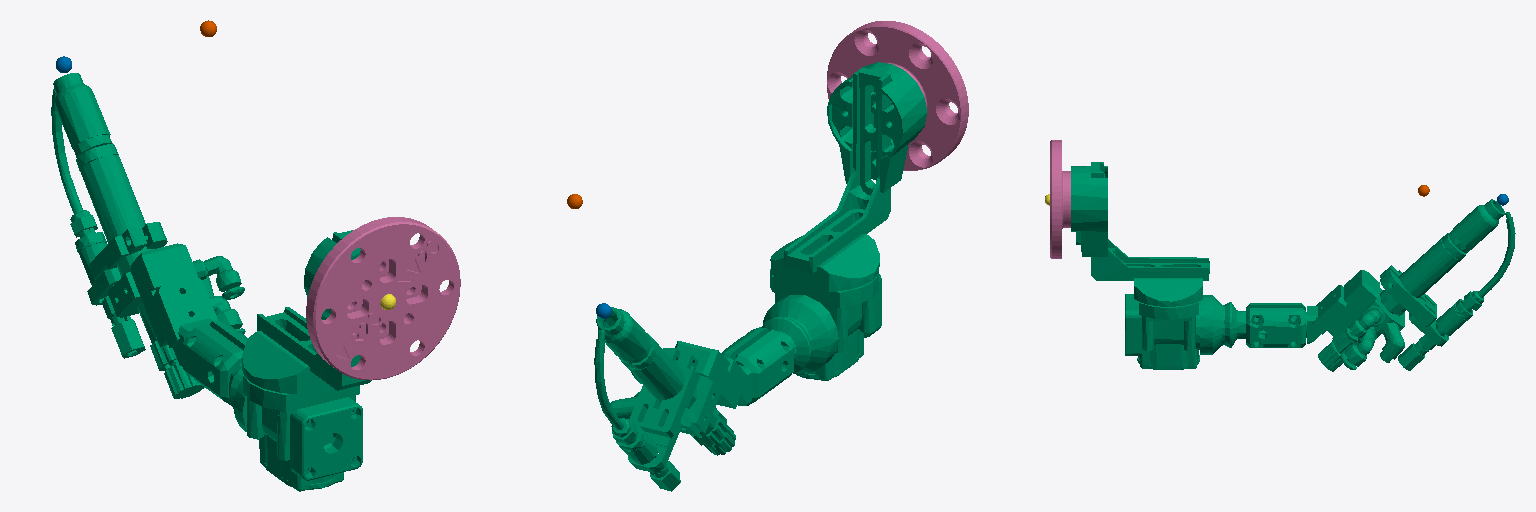
robot.urdf — ur10:
<?xml version="1.0" ?>
<!-- =================================================================================== -->
<!-- |    This document was autogenerated by xacro from [local-path]/weldbot_ws/src/ArcWeldBot/ur_description_pkg/ur_description/urdf/ur10_joint_limited_robot.urdf.xacro | -->
<!-- |    EDITING THIS FILE BY HAND IS NOT RECOMMENDED                                 | -->
<!-- =================================================================================== -->
<robot name="ur10">
    <gazebo>
        <plugin filename="libgazebo_ros_control.so" name="ros_control">
            <!--robotNamespace>/</robotNamespace-->
            <!--robotSimType>gazebo_ros_control/DefaultRobotHWSim</robotSimType-->
        </plugin>
        <!--
    <plugin name="gazebo_ros_power_monitor_controller" filename="libgazebo_ros_power_monitor.so">
      <alwaysOn>true</alwaysOn>
      <updateRate>1.0</updateRate>
      <timeout>5</timeout>
      <powerStateTopic>power_state</powerStateTopic>
      <powerStateRate>10.0</powerStateRate>
      <fullChargeCapacity>87.78</fullChargeCapacity>     
      <dischargeRate>-474</dischargeRate>
      <chargeRate>525</chargeRate>
      <dischargeVoltage>15.52</dischargeVoltage>
      <chargeVoltage>16.41</chargeVoltage>
    </plugin>
-->
        <plugin name="gazebo_ros_control">
            <robotNamespace>/</robotNamespace>
        </plugin>
    </gazebo>
    <!--
  Author: [author]
  Contributers: [author], [author], [author]
-->
    <!-- measured from model -->
    <link name="base_link">
        <visual>
            <geometry>
                <mesh filename="package://ur_description_pkg/ur_description/meshes/visual/base.dae" />
            </geometry>
            <material name="LightGrey">
                <color rgba="0.7 0.7 0.7 1.0" />
            </material>
        </visual>
        <collision>
            <geometry>
                <mesh filename="package://ur_description_pkg/ur_description/meshes/collision/base.stl" />
            </geometry>
        </collision>
        <inertial>
            <mass value="4.0" />
            <origin rpy="0 0 0" xyz="0.0 0.0 0.0" />
            <inertia ixx="0.0061063308908" ixy="0.0" ixz="0.0" iyy="0.0061063308908" iyz="0.0" izz="0.01125" />
        </inertial>
    </link>
    <joint name="shoulder_pan_joint" type="revolute">
        <parent link="base_link" />
        <child link="shoulder_link" />
        <origin rpy="0.0 0.0 0.0" xyz="0.0 0.0 0.1273" />
        <axis xyz="0 0 1" />
        <limit effort="330.0" lower="-3.141592653589793" upper="3.141592653589793" velocity="2.16" />
        <dynamics damping="0.0" friction="0.0" />
    </joint>
    <link name="shoulder_link">
        <visual>
            <geometry>
                <mesh filename="package://ur_description_pkg/ur_description/meshes/visual/shoulder.dae" />
            </geometry>
            <material name="LightGrey">
                <color rgba="0.7 0.7 0.7 1.0" />
            </material>
        </visual>
        <collision>
            <geometry>
                <mesh filename="package://ur_description_pkg/ur_description/meshes/collision/shoulder.stl" />
            </geometry>
        </collision>
        <inertial>
            <mass value="7.778" />
            <origin rpy="0 0 0" xyz="0.0 0.0 0.0" />
            <inertia ixx="0.03147431257693659" ixy="0.0" ixz="0.0" iyy="0.03147431257693659" iyz="0.0" izz="0.021875624999999996" />
        </inertial>
    </link>
    <joint name="shoulder_lift_joint" type="revolute">
        <parent link="shoulder_link" />
        <child link="upper_arm_link" />
        <origin rpy="0.0 1.5707963267948966 0.0" xyz="0.0 0.220941 0.0" />
        <axis xyz="0 1 0" />
        <limit effort="330.0" lower="-3.141592653589793" upper="3.141592653589793" velocity="2.16" />
        <dynamics damping="0.0" friction="0.0" />
    </joint>
    <link name="upper_arm_link">
        <visual>
            <geometry>
                <mesh filename="package://ur_description_pkg/ur_description/meshes/visual/upperarm.dae" />
            </geometry>
            <material name="LightGrey">
                <color rgba="0.7 0.7 0.7 1.0" />
            </material>
        </visual>
        <collision>
            <geometry>
                <mesh filename="package://ur_description_pkg/ur_description/meshes/collision/upperarm.stl" />
            </geometry>
        </collision>
        <inertial>
            <mass value="12.93" />
            <origin rpy="0 0 0" xyz="0.0 -0.045 0.306" />
            <inertia ixx="0.42175380379841093" ixy="0.0" ixz="0.0" iyy="0.42175380379841093" iyz="0.0" izz="0.03636562499999999" />
        </inertial>
    </link>
    <joint name="elbow_joint" type="revolute">
        <parent link="upper_arm_link" />
        <child link="forearm_link" />
        <origin rpy="0.0 0.0 0.0" xyz="0.0 -0.1719 0.612" />
        <axis xyz="0 1 0" />
        <limit effort="150.0" lower="-3.141592653589793" upper="3.141592653589793" velocity="3.15" />
        <dynamics damping="0.0" friction="0.0" />
    </joint>
    <link name="forearm_link">
        <visual>
            <geometry>
                <mesh filename="package://ur_description_pkg/ur_description/meshes/visual/forearm.dae" />
            </geometry>
            <material name="LightGrey">
                <color rgba="0.7 0.7 0.7 1.0" />
            </material>
        </visual>
        <collision>
            <geometry>
                <mesh filename="package://ur_description_pkg/ur_description/meshes/collision/forearm.stl" />
            </geometry>
        </collision>
        <inertial>
            <mass value="3.87" />
            <origin rpy="0 0 0" xyz="0.0 0.0 0.28615" />
            <inertia ixx="0.11106969409710458" ixy="0.0" ixz="0.0" iyy="0.11106969409710458" iyz="0.0" izz="0.010884375" />
        </inertial>
    </link>
    <joint name="wrist_1_joint" type="revolute">
        <parent link="forearm_link" />
        <child link="wrist_1_link" />
        <origin rpy="0.0 1.5707963267948966 0.0" xyz="0.0 0.0 0.5723" />
        <axis xyz="0 1 0" />
        <limit effort="54.0" lower="-3.141592653589793" upper="3.141592653589793" velocity="3.2" />
        <dynamics damping="0.0" friction="0.0" />
    </joint>
    <link name="wrist_1_link">
        <visual>
            <geometry>
                <mesh filename="package://ur_description_pkg/ur_description/meshes/visual/wrist1.dae" />
            </geometry>
            <material name="LightGrey">
                <color rgba="0.7 0.7 0.7 1.0" />
            </material>
        </visual>
        <collision>
            <geometry>
                <mesh filename="package://ur_description_pkg/ur_description/meshes/collision/wrist1.stl" />
            </geometry>
        </collision>
        <inertial>
            <mass value="1.96" />
            <origin rpy="0 0 0" xyz="0.0 0.1149 0.0" />
            <inertia ixx="0.005108247956699999" ixy="0.0" ixz="0.0" iyy="0.005108247956699999" iyz="0.0" izz="0.005512499999999999" />
        </inertial>
    </link>
    <joint name="wrist_2_joint" type="revolute">
        <parent link="wrist_1_link" />
        <child link="wrist_2_link" />
        <origin rpy="0.0 0.0 0.0" xyz="0.0 0.1149 0.0" />
        <axis xyz="0 0 1" />
        <limit effort="54.0" lower="-3.141592653589793" upper="3.141592653589793" velocity="3.2" />
        <dynamics damping="0.0" friction="0.0" />
    </joint>
    <link name="wrist_2_link">
        <visual>
            <geometry>
                <mesh filename="package://ur_description_pkg/ur_description/meshes/visual/wrist2.dae" />
            </geometry>
            <material name="LightGrey">
                <color rgba="0.7 0.7 0.7 1.0" />
            </material>
        </visual>
        <collision>
            <geometry>
                <mesh filename="package://ur_description_pkg/ur_description/meshes/collision/wrist2.stl" />
            </geometry>
        </collision>
        <inertial>
            <mass value="1.96" />
            <origin rpy="0 0 0" xyz="0.0 0.0 0.1157" />
            <inertia ixx="0.005108247956699999" ixy="0.0" ixz="0.0" iyy="0.005108247956699999" iyz="0.0" izz="0.005512499999999999" />
        </inertial>
    </link>
    <joint name="wrist_3_joint" type="revolute">
        <parent link="wrist_2_link" />
        <child link="wrist_3_link" />
        <origin rpy="0.0 0.0 0.0" xyz="0.0 0.0 0.1157" />
        <axis xyz="0 1 0" />
        <limit effort="54.0" lower="-3.141592653589793" upper="3.141592653589793" velocity="3.2" />
        <dynamics damping="0.0" friction="0.0" />
    </joint>
    <link name="wrist_3_link">
        <visual>
            <geometry>
                <mesh filename="package://ur_description_pkg/ur_description/meshes/visual/wrist3.dae" />
            </geometry>
            <material name="LightGrey">
                <color rgba="0.7 0.7 0.7 1.0" />
            </material>
        </visual>
        <collision>
            <geometry>
                <mesh filename="package://ur_description_pkg/ur_description/meshes/collision/wrist3.stl" />
            </geometry>
        </collision>
        <inertial>
            <mass value="0.202" />
            <origin rpy="1.5707963267948966 0 0" xyz="0.0 0.07695 0.0" />
            <inertia ixx="0.00011792166116465" ixy="0.0" ixz="0.0" iyy="0.00011792166116465" iyz="0.0" izz="0.00020452500000000002" />
        </inertial>
    </link>
    <joint name="ee_fixed_joint" type="fixed">
        <parent link="wrist_3_link" />
        <child link="ee_link" />
        <origin rpy="0.0 0.0 1.5707963267948966" xyz="0.0 0.0922 0.0" />
    </joint>
    <link name="ee_link">
        <collision>
            <geometry>
                <box size="0.01 0.01 0.01" />
            </geometry>
            <origin rpy="0 0 0" xyz="-0.01 0 0" />
        </collision>
        <inertial>
            <mass value="0.1" />
            <origin xyz="0 0 0" rpy="0 0 0" />
            <inertia ixx="0.03" iyy="0.03" izz="0.03" ixy="0.0" ixz="0.0" iyz="0.0" />
        </inertial>
    </link>
    <transmission name="shoulder_pan_trans">
        <type>transmission_interface/SimpleTransmission</type>
        <joint name="shoulder_pan_joint">
            <hardwareInterface>hardware_interface/PositionJointInterface</hardwareInterface>
        </joint>
        <actuator name="shoulder_pan_motor">
            <mechanicalReduction>1</mechanicalReduction>
            <hardwareInterface>hardware_interface/EffortJointInterface</hardwareInterface>
        </actuator>
    </transmission>
    <transmission name="shoulder_lift_trans">
        <type>transmission_interface/SimpleTransmission</type>
        <joint name="shoulder_lift_joint">
            <hardwareInterface>hardware_interface/PositionJointInterface</hardwareInterface>
        </joint>
        <actuator name="shoulder_lift_motor">
            <mechanicalReduction>1</mechanicalReduction>
            <hardwareInterface>hardware_interface/EffortJointInterface</hardwareInterface>
        </actuator>
    </transmission>
    <transmission name="elbow_trans">
        <type>transmission_interface/SimpleTransmission</type>
        <joint name="elbow_joint">
            <hardwareInterface>hardware_interface/PositionJointInterface</hardwareInterface>
        </joint>
        <actuator name="elbow_motor">
            <mechanicalReduction>1</mechanicalReduction>
            <hardwareInterface>hardware_interface/EffortJointInterface</hardwareInterface>
        </actuator>
    </transmission>
    <transmission name="wrist_1_trans">
        <type>transmission_interface/SimpleTransmission</type>
        <joint name="wrist_1_joint">
            <hardwareInterface>hardware_interface/PositionJointInterface</hardwareInterface>
        </joint>
        <actuator name="wrist_1_motor">
            <mechanicalReduction>1</mechanicalReduction>
            <hardwareInterface>hardware_interface/EffortJointInterface</hardwareInterface>
        </actuator>
    </transmission>
    <transmission name="wrist_2_trans">
        <type>transmission_interface/SimpleTransmission</type>
        <joint name="wrist_2_joint">
            <hardwareInterface>hardware_interface/PositionJointInterface</hardwareInterface>
        </joint>
        <actuator name="wrist_2_motor">
            <mechanicalReduction>1</mechanicalReduction>
            <hardwareInterface>hardware_interface/EffortJointInterface</hardwareInterface>
        </actuator>
    </transmission>
    <transmission name="wrist_3_trans">
        <type>transmission_interface/SimpleTransmission</type>
        <joint name="wrist_3_joint">
            <hardwareInterface>hardware_interface/PositionJointInterface</hardwareInterface>
        </joint>
        <actuator name="wrist_3_motor">
            <mechanicalReduction>1</mechanicalReduction>
            <hardwareInterface>hardware_interface/EffortJointInterface</hardwareInterface>
        </actuator>
    </transmission>
    <gazebo reference="shoulder_link">
        <selfCollide>true</selfCollide>
    </gazebo>
    <gazebo reference="upper_arm_link">
        <selfCollide>true</selfCollide>
    </gazebo>
    <gazebo reference="forearm_link">
        <selfCollide>true</selfCollide>
    </gazebo>
    <gazebo reference="wrist_1_link">
        <selfCollide>true</selfCollide>
    </gazebo>
    <gazebo reference="wrist_3_link">
        <selfCollide>true</selfCollide>
    </gazebo>
    <gazebo reference="wrist_2_link">
        <selfCollide>true</selfCollide>
    </gazebo>
    <gazebo reference="ee_link">
        <selfCollide>true</selfCollide>
    </gazebo>
    <!-- ROS base_link to UR 'Base' Coordinates transform -->
    <link name="base" />
    <joint name="base_link-base_fixed_joint" type="fixed">
        <!-- NOTE: this rotation is only needed as long as base_link itself is
                 not corrected wrt the real robot (ie: rotated over 180
                 degrees)
      -->
        <origin rpy="0 0 -3.141592653589793" xyz="0 0 0" />
        <parent link="base_link" />
        <child link="base" />
    </joint>
    <!-- Frame coincident with all-zeros TCP on UR controller -->
    <link name="tool0" />
    <joint name="wrist_3_link-tool0_fixed_joint" type="fixed">
        <origin rpy="-1.5707963267948966 0 0" xyz="0 0.0922 0" />
        <parent link="wrist_3_link" />
        <child link="tool0" />
    </joint>
    <!-- *************************************************** -->
    <link name="torch">
        <visual name="visual">
            <geometry>
                <mesh filename="package://ur_description_pkg/ur_description/meshes/collision/torch.stl" />
            </geometry>
            <material name="torch_gray" />
            <!-- <material name="torch_gray"/> -->
        </visual>
        <!--
    <collision>
        <geometry>
          <mesh filename="package://ur_description_pkg/ur_description/meshes/collision/torch.stl"/>
        </geometry>
    </collision>
    -->
    </link>
    <link name="tcp">
        <visual name="visual">
            <geometry>
                <sphere radius="0.005" />
            </geometry>
            <material name="torch_gray" />
        </visual>
    </link>
    <link name="tip">
        <visual name="visual">
            <geometry>
                <sphere radius="0.005" />
            </geometry>
            <material name="blue" />
        </visual>
    </link>
    <link name="scanner">
        <visual name="visual">
            <geometry>
                <sphere radius="0.005" />
            </geometry>
            <material name="torch_gray" />
        </visual>
    </link>
    <link name="flange">
        <visual name="visual">
            <geometry>
                <mesh filename="package://ur_description_pkg/ur_description/meshes/collision/flange.stl" scale="0.001 0.001 0.001" />
            </geometry>
            <material name="plate_light_gray" />
            <!-- <material name="blue"/> -->
        </visual>
        <!--
    <collision>
        <geometry>
          <mesh filename="package://ur_description_pkg/ur_description/meshes/collision/flange.stl"/>
        </geometry>
    </collision>
      -->
    </link>
    <joint name="link6_flange" type="fixed">
        <origin rpy="1.570796 0 1.570796" xyz="0 0 0" />
        <!-- <origin xyz=" 0 0 0" rpy="0 0 0"/> -->
        <parent link="ee_link" />
        <child link="flange" />
        <!-- <axis xyz="0 1 0"/> -->
    </joint>
    <joint name="flange_torch" type="fixed">
        <origin rpy="0 0 1.570796" xyz="0.101 0.131 -0.006" />
        <parent link="flange" />
        <child link="torch" />
        <axis xyz="0 0 1" />
    </joint>
    <joint name="torch_tip" type="revolute">
        <!--<origin xyz="0.4295 0 0" rpy="0 -0.785398 0"/> -->
        <origin rpy="0 -0.785398 0" xyz="0.38 0 0" />
        <parent link="ee_link" />
        <child link="tip" />
        <axis xyz="0 0 1" />
        <limit effort="0" lower="0" upper="0" velocity="0" />
    </joint>
    <joint name="scanner_tip" type="revolute">
        <origin rpy="0.785398 0 -1.570796" xyz="0.313575 0.059613 -0.03619" />
        <parent link="ee_link" />
        <child link="scanner" />
        <axis xyz="1 0 0" />
        <limit effort="0" lower="0" upper="0" velocity="0" />
    </joint>
    <joint name="link_6_tcp" type="revolute">
        <origin rpy="0 0 0" xyz=" 0 0 0" />
        <parent link="ee_link" />
        <child link="tcp" />
        <!-- <origin xyz="0 0 0"/> -->
        <!-- <axis xyz="0 0 1"/> -->
        <limit effort="0" lower="0" upper="0" velocity="0" />
    </joint>
    <!-- *************************************************** -->
    <link name="world" />
    <joint name="world_joint" type="fixed">
        <parent link="world" />
        <child link="base_link" />
        <origin rpy="0.0 0.0 0.0" xyz="0.0 0.0 0.0" />
    </joint>
    <transmission name="trans_torch_tip">
        <type>transmission_interface/SimpleTransmission</type>
        <joint name="torch_tip">
            <hardwareInterface>hardware_interface/EffortJointInterface</hardwareInterface>
        </joint>
        <actuator name="torch_tip_motor">
            <hardwareInterface>hardware_interface/EffortJointInterface</hardwareInterface>
            <mechanicalReduction>1</mechanicalReduction>
        </actuator>
    </transmission>
    <transmission name="trans_scanner_tip">
        <type>transmission_interface/SimpleTransmission</type>
        <joint name="scanner_tip">
            <hardwareInterface>hardware_interface/EffortJointInterface</hardwareInterface>
        </joint>
        <actuator name="scanner_tip_motor">
            <hardwareInterface>hardware_interface/EffortJointInterface</hardwareInterface>
            <mechanicalReduction>1</mechanicalReduction>
        </actuator>
    </transmission>
    <transmission name="trans_link_6_tcp">
        <type>transmission_interface/SimpleTransmission</type>
        <joint name="link_6_tcp">
            <hardwareInterface>hardware_interface/EffortJointInterface</hardwareInterface>
        </joint>
        <actuator name="link_6_tcp_motor">
            <hardwareInterface>hardware_interface/EffortJointInterface</hardwareInterface>
            <mechanicalReduction>1</mechanicalReduction>
        </actuator>
    </transmission>
</robot>

--- What the picture shows (computed from the rendered views, not written in the file) ---
Views: 3 orthographic renders of the robot side by side, from view 1: azimuth 30°, elevation 25°; view 2: azimuth 150°, elevation 25°; view 3: azimuth 270°, elevation 25°.
Model ur10 with 16 links and 15 joints (9 revolute, 6 fixed), rooted at world, posed all joints at 0.
Visible links, largest first — view 1: torch, flange; view 2: torch, flange; view 3: torch, flange.
Boxes of the visible links, left/top/right/bottom form: torch: left=51, top=73, right=371, bottom=491; flange: left=306, top=217, right=460, bottom=380; torch: left=594, top=62, right=926, bottom=491; flange: left=827, top=21, right=968, bottom=170; torch: left=1071, top=162, right=1515, bottom=371; flange: left=1050, top=140, right=1070, bottom=258.
Size in the robot's own frame: 0.1146 by 0.3956 by 0.2086 metres.
2 mesh visuals loaded from 9 distinct referenced files (2 binary STL); not drawn: 7 (reference not matched to a file when rendering).